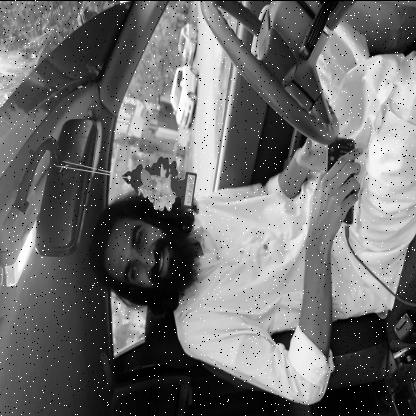no_seatbelt: (94, 195, 298, 316)
